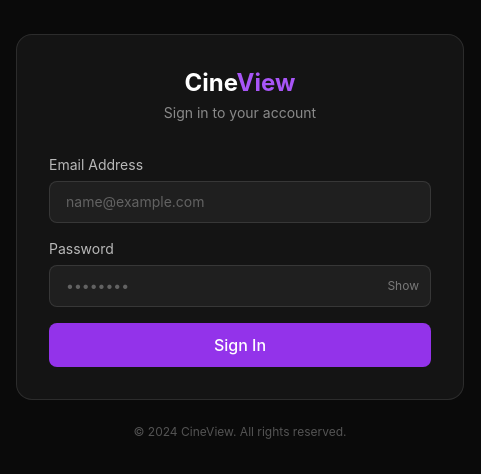
Test: Milestone 2 — Auth Smoke Tests › shows error when submitting empty form
Click the button "Sign In": coordinates (240, 345) [49, 323, 431, 367]
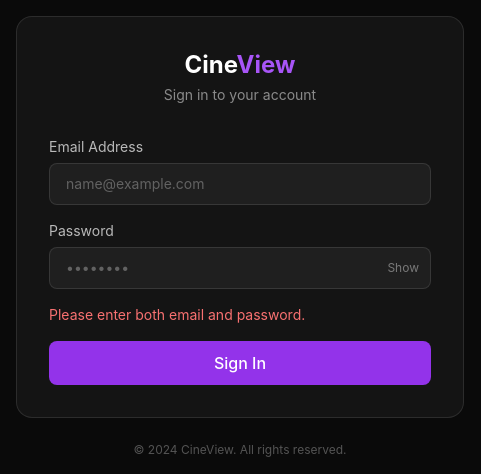
Expected: the text "Please enter both email and password." is shown, [49, 306, 305, 323]
